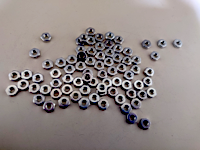nut: (5, 85, 18, 97), (9, 70, 21, 82), (70, 91, 82, 103), (98, 99, 110, 111), (39, 85, 51, 96), (121, 103, 132, 115), (44, 101, 55, 113), (62, 74, 74, 85), (79, 85, 91, 96), (32, 73, 45, 83), (127, 112, 137, 125), (18, 80, 29, 91), (29, 83, 40, 94), (140, 119, 151, 130), (59, 98, 70, 109), (79, 99, 90, 110), (131, 99, 142, 110), (137, 91, 148, 102), (29, 49, 41, 59), (21, 70, 33, 80), (42, 60, 54, 70), (33, 95, 45, 105), (50, 79, 62, 89), (50, 69, 62, 79), (96, 83, 108, 93), (90, 93, 100, 105), (41, 33, 52, 43), (141, 40, 152, 50), (157, 39, 168, 49), (150, 51, 161, 61), (73, 77, 84, 87), (147, 88, 157, 99), (124, 71, 135, 81), (62, 85, 73, 95), (51, 89, 61, 100), (64, 65, 75, 75), (88, 77, 99, 87), (82, 68, 93, 78), (115, 95, 126, 105), (112, 78, 123, 88), (123, 80, 133, 91), (132, 56, 143, 66), (131, 65, 142, 75), (173, 39, 183, 49), (56, 58, 66, 68), (127, 89, 137, 99), (95, 61, 105, 71), (134, 80, 144, 90), (67, 55, 77, 65), (108, 67, 118, 77), (76, 62, 86, 72), (98, 70, 108, 80), (103, 79, 113, 89), (105, 48, 115, 58), (122, 48, 133, 57), (97, 87, 108, 96), (114, 36, 125, 45), (116, 64, 127, 73), (145, 68, 155, 77), (85, 57, 95, 66), (108, 88, 118, 97), (113, 54, 123, 63), (114, 44, 123, 54), (143, 78, 154, 86), (76, 46, 87, 54), (87, 47, 96, 56), (105, 58, 114, 67), (77, 52, 86, 61), (95, 33, 104, 42), (87, 36, 96, 45), (80, 34, 89, 43), (76, 37, 85, 46), (123, 57, 132, 66), (86, 28, 96, 36), (95, 43, 105, 51), (82, 73, 92, 81), (95, 52, 105, 60), (106, 32, 115, 40), (105, 40, 113, 48)
